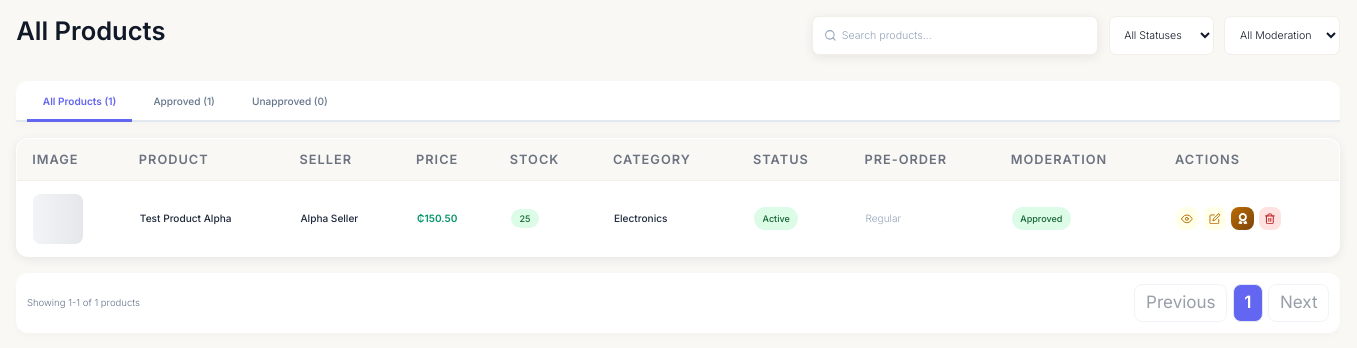
Test: AllProductPage › performs search filter accurately
Check: the text "Test Product Alpha" is shown, box x1=140 y1=212 x2=232 y2=224
Type "Zyzzyva" into the field with placeholder "Search products..." at (961, 36), box x1=836 y1=23 x2=1086 y2=49
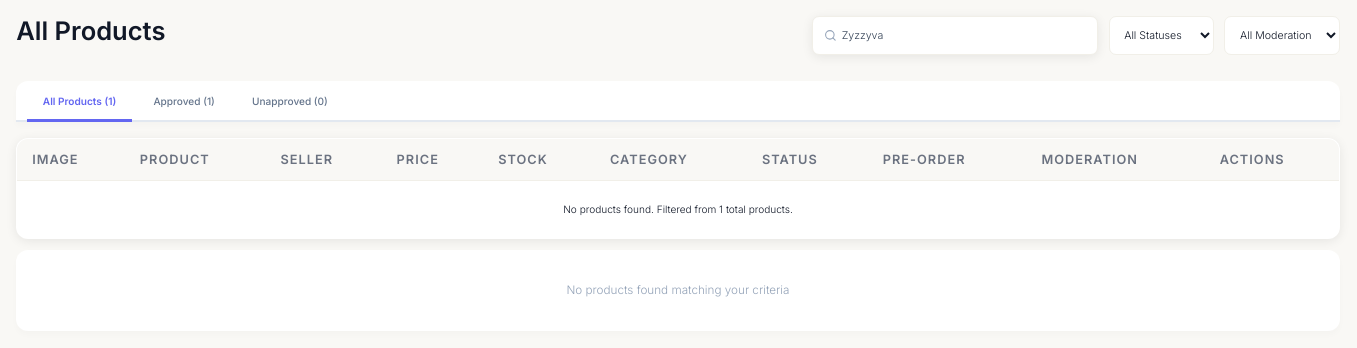
Check: the text "Test Product Alpha" is gone
Check: the text "No products found. Filtered from 1 total products." is shown, box x1=17 y1=180 x2=1339 y2=239
